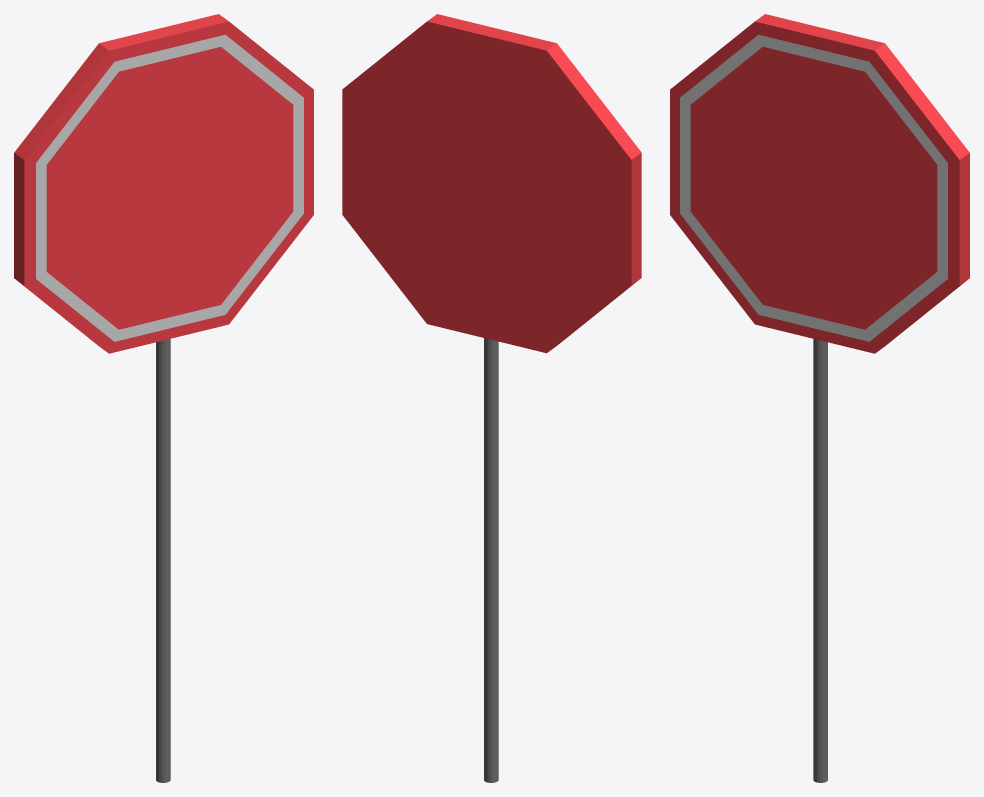
File: signs stop.fbx
3 renders of one model, left to right at view 1: azimuth 30°, elevation 25°; view 2: azimuth 150°, elevation 25°; view 3: azimuth 330°, elevation 25°, orthographic.
Parts seen in each view (by area): view 1: Cube; view 2: Cube; view 3: Cube.
Boxes of the visible parts, box(x1,y1,x2,y2) form: Cube: box(14, 14, 313, 782); Cube: box(342, 14, 641, 782); Cube: box(670, 14, 969, 782).
Size of the model in its own units: 185 by 12.26 by 456.
